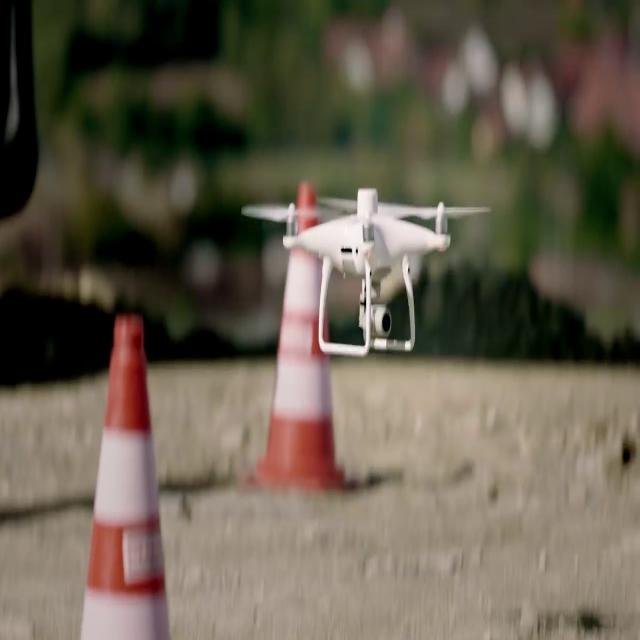drone: (240, 185, 498, 356)
